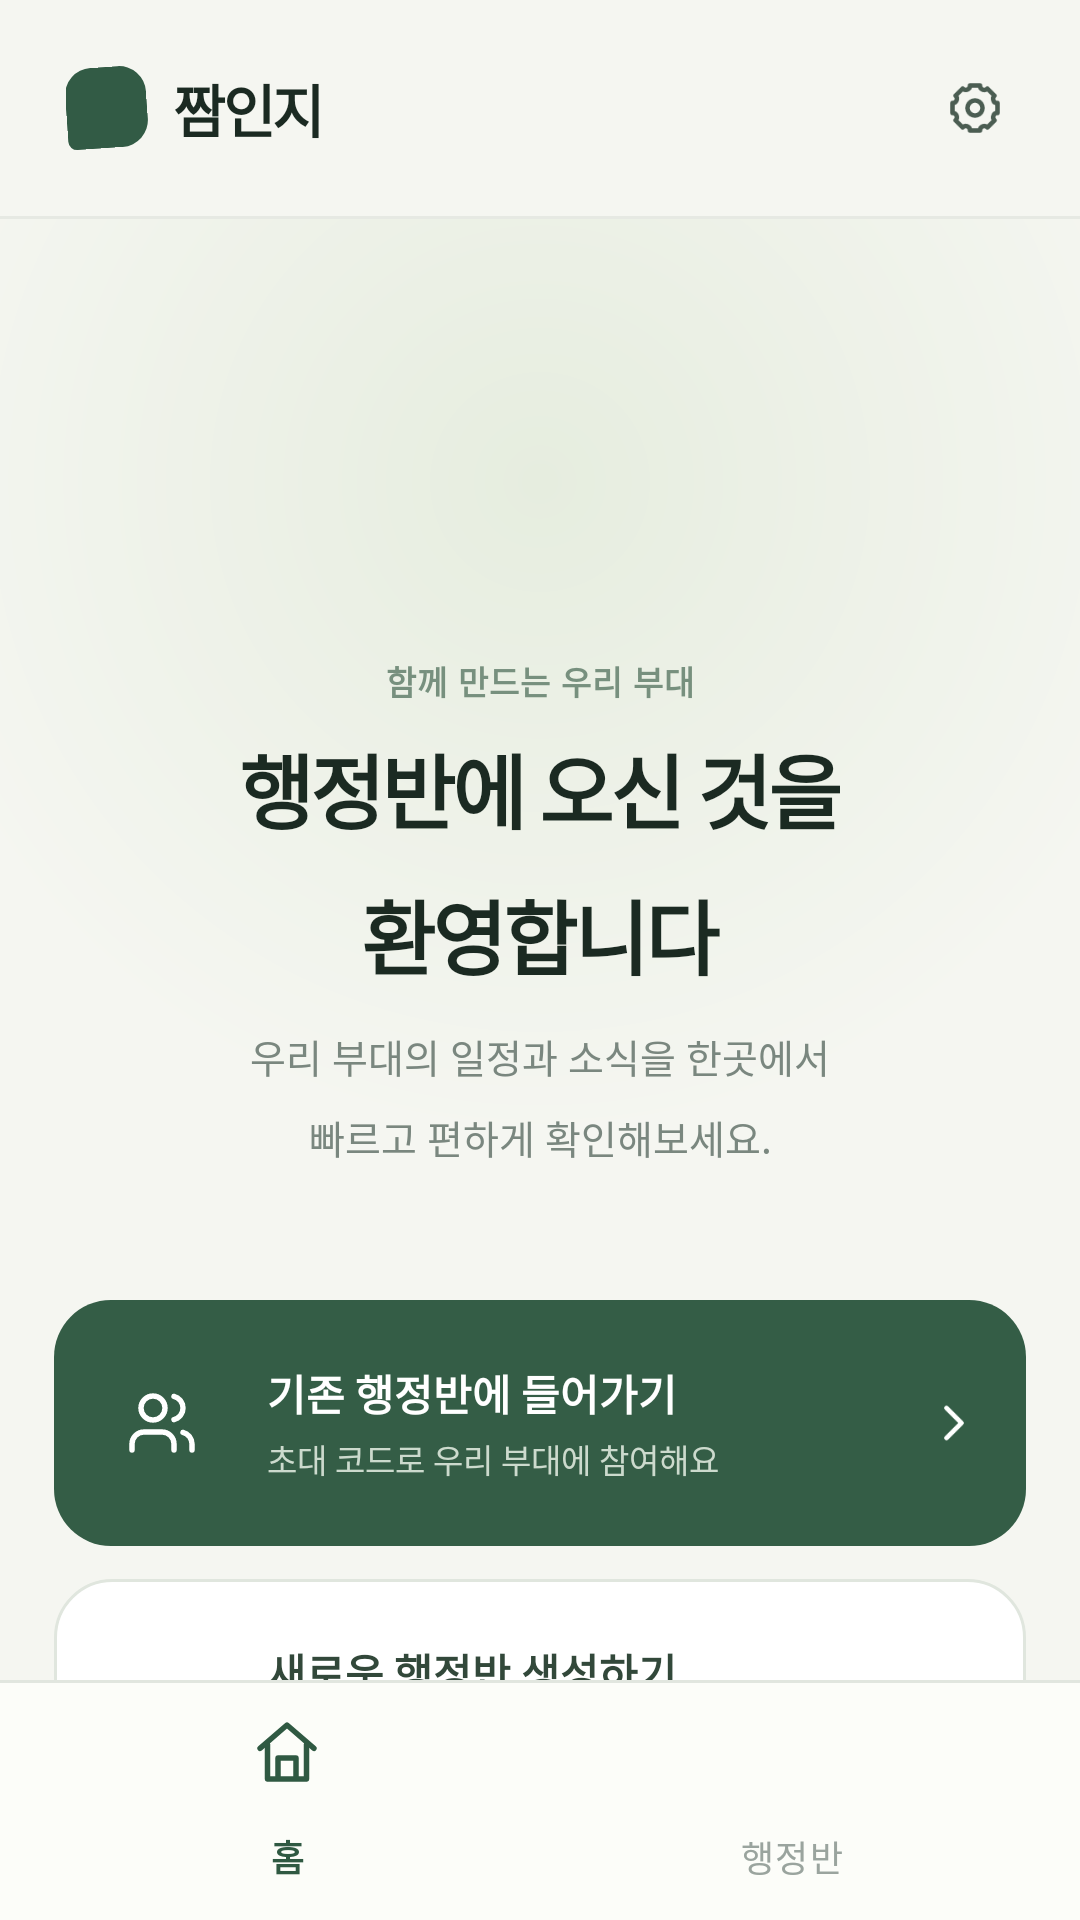

Named icons in this screenshot (1080 × 1920) and their centers, point (x, y):
users: point (162, 1423)
설정: point (975, 108)
